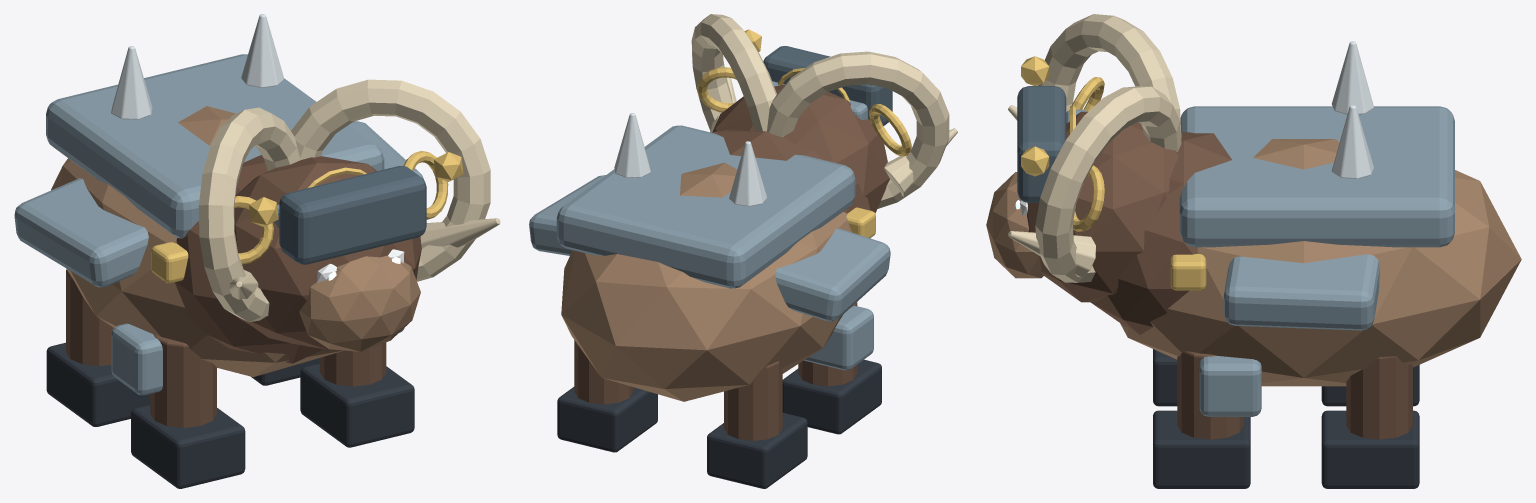
Rendered from rambeast.glb.
3 renders of one model, left to right at view 1: azimuth 30°, elevation 25°; view 2: azimuth 150°, elevation 25°; view 3: azimuth 270°, elevation 25°, orthographic. The views are drawn at different scales.
Parts seen in each view (by area): view 1: BackPlate, Body.001, HornLoopR, HeadPlate, Head.005, HornLoopL, SideArmorL, Muzzle, Hoof_0.44_-0.34, Hoof_-0.44_-0.34, Chest, Hoof_-0.44_0.42 (+15 smaller); view 2: Body.001, BackPlate, HornLoopL, SideArmorL, Head.005, HornLoopR, Hoof_-0.44_0.42, Hoof_-0.44_-0.34, Hoof_0.44_0.42, Leg_-0.44_0.42, LegArmor-0.52, HeadPlate (+10 smaller); view 3: Body.001, BackPlate, SideArmorR, Head.005, HornLoopR, Chest, HornLoopL, Hoof_0.44_0.42, Hoof_0.44_-0.34, Leg_0.44_0.42, HeadPlate, LegArmor0.52 (+12 smaller).
Part boxes in pixels (x1=…): BackPlate: x1=46, y1=54, x2=384, y2=238; Body.001: x1=51, y1=106, x2=343, y2=377; HornLoopR: x1=291, y1=79, x2=490, y2=281; HeadPlate: x1=279, y1=166, x2=426, y2=264; Head.005: x1=234, y1=156, x2=421, y2=349; HornLoopL: x1=198, y1=107, x2=299, y2=322; SideArmorL: x1=14, y1=178, x2=148, y2=287; Muzzle: x1=299, y1=255, x2=420, y2=351; Hoof_0.44_-0.34: x1=300, y1=363, x2=414, y2=447; Hoof_-0.44_-0.34: x1=131, y1=404, x2=245, y2=488; Chest: x1=175, y1=155, x2=323, y2=363; Hoof_-0.44_0.42: x1=46, y1=342, x2=150, y2=426; Body.001: x1=561, y1=162, x2=851, y2=401; BackPlate: x1=556, y1=125, x2=855, y2=288; HornLoopL: x1=767, y1=51, x2=949, y2=208; SideArmorL: x1=775, y1=228, x2=890, y2=321; Head.005: x1=713, y1=84, x2=889, y2=213; HornLoopR: x1=691, y1=14, x2=776, y2=131; Hoof_-0.44_0.42: x1=707, y1=412, x2=807, y2=488; Hoof_-0.44_-0.34: x1=782, y1=359, x2=881, y2=434; Hoof_0.44_0.42: x1=557, y1=387, x2=657, y2=452; Leg_-0.44_0.42: x1=724, y1=361, x2=782, y2=440; LegArmor-0.52: x1=804, y1=305, x2=873, y2=370; HeadPlate: x1=763, y1=46, x2=892, y2=125; Body.001: x1=1120, y1=139, x2=1521, y2=386; BackPlate: x1=1179, y1=106, x2=1454, y2=247; SideArmorR: x1=1223, y1=254, x2=1379, y2=330; Head.005: x1=1027, y1=111, x2=1178, y2=302; HornLoopR: x1=1035, y1=86, x2=1181, y2=282; Chest: x1=1091, y1=132, x2=1231, y2=334; HornLoopL: x1=1037, y1=14, x2=1181, y2=137; Hoof_0.44_0.42: x1=1321, y1=410, x2=1419, y2=488; Hoof_0.44_-0.34: x1=1153, y1=410, x2=1250, y2=488; Leg_0.44_0.42: x1=1346, y1=356, x2=1412, y2=439; HeadPlate: x1=1017, y1=86, x2=1066, y2=202; LegArmor0.52: x1=1199, y1=356, x2=1261, y2=416.
Size of the model in its own units: 1.83 by 1.86 by 2.41.
